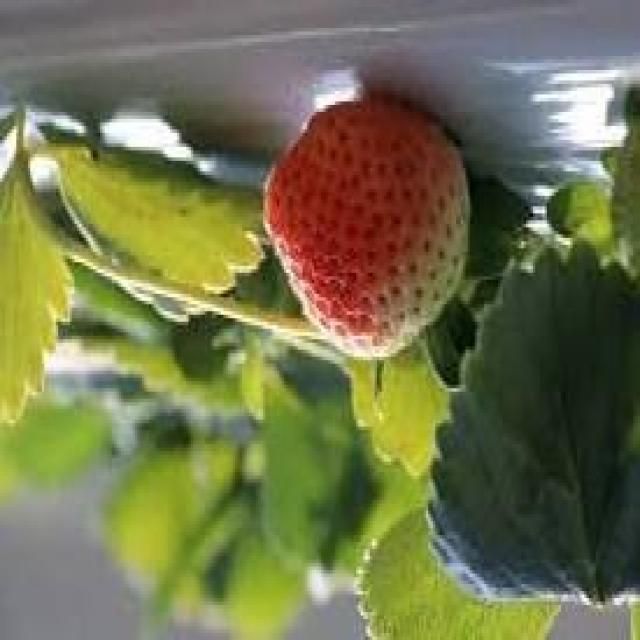immature: (260, 100, 470, 363)
